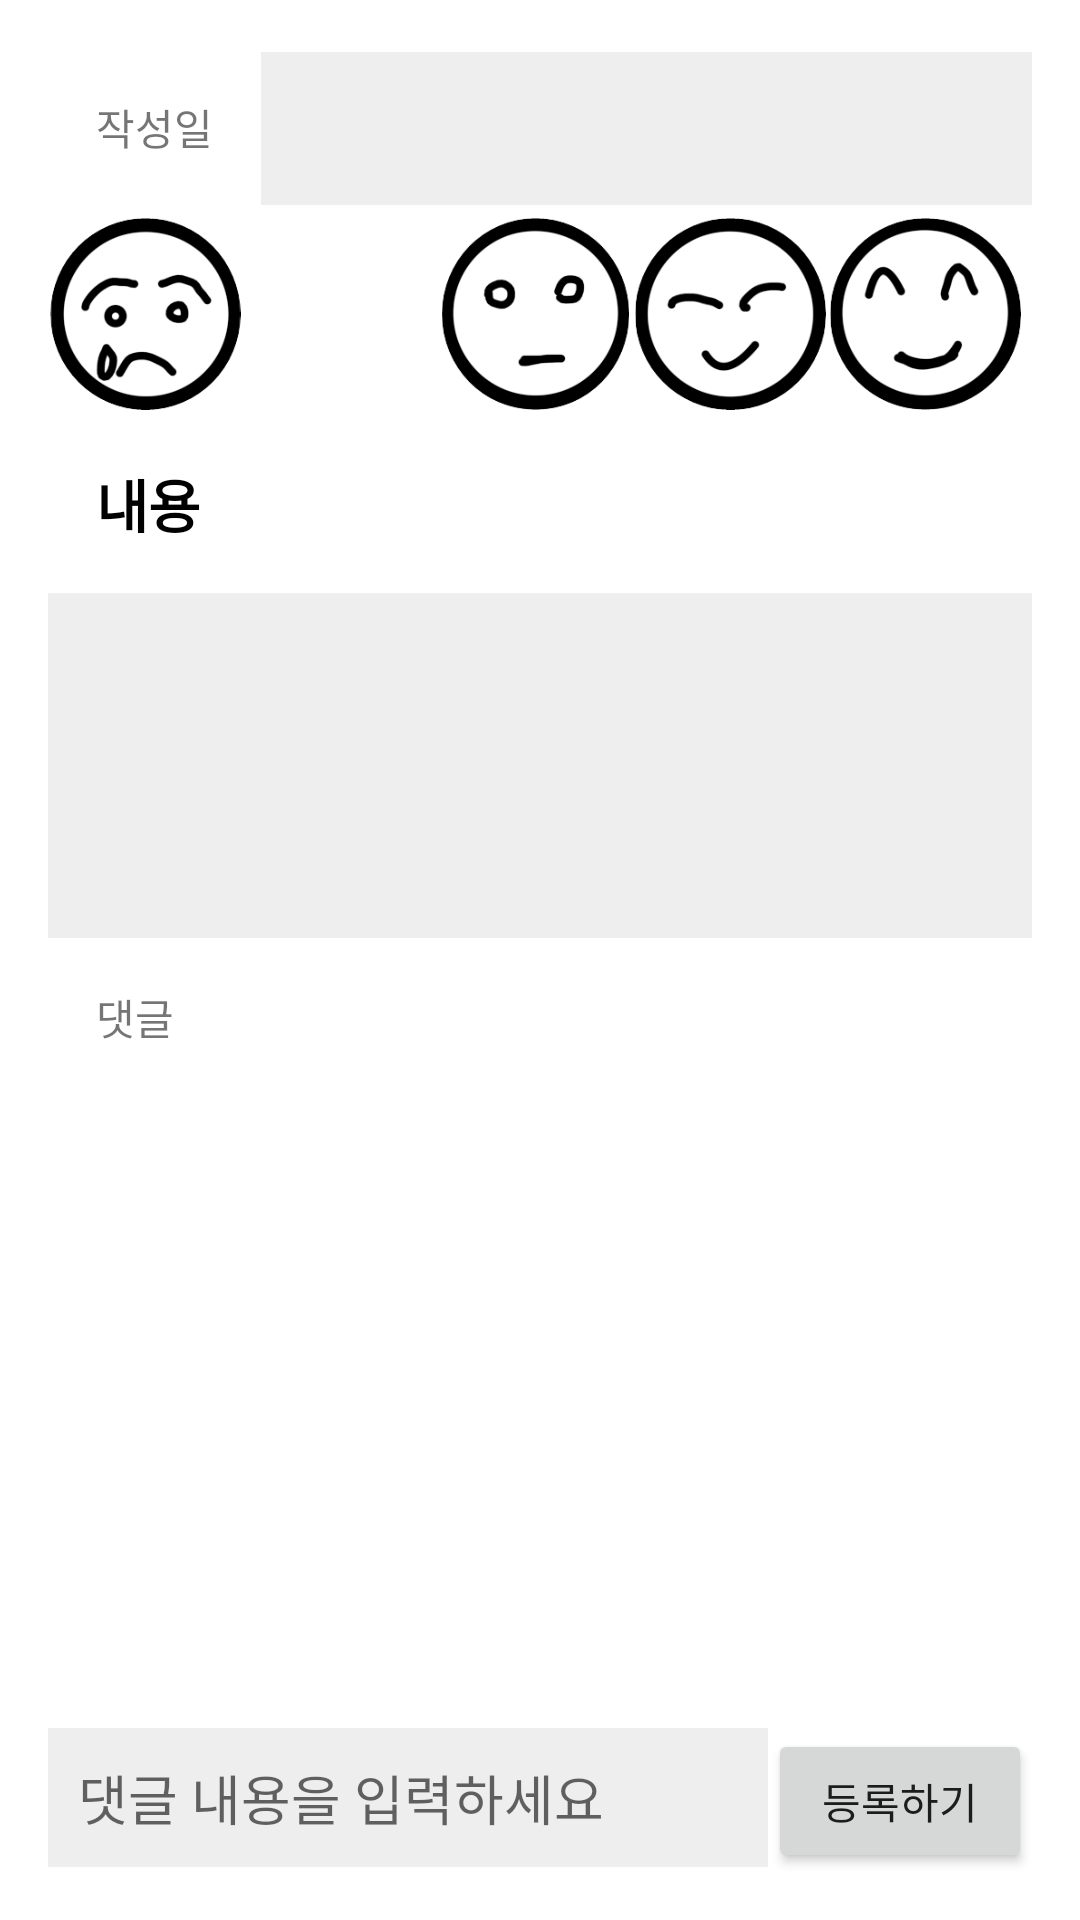

Icon bounding boxes for this 1080 × 1920 phone screenshot, format Rect(x1, y1, x2, y2):
emotion: Rect(50, 218, 241, 410), Rect(442, 218, 629, 410), Rect(635, 218, 826, 410), Rect(830, 218, 1021, 410)
